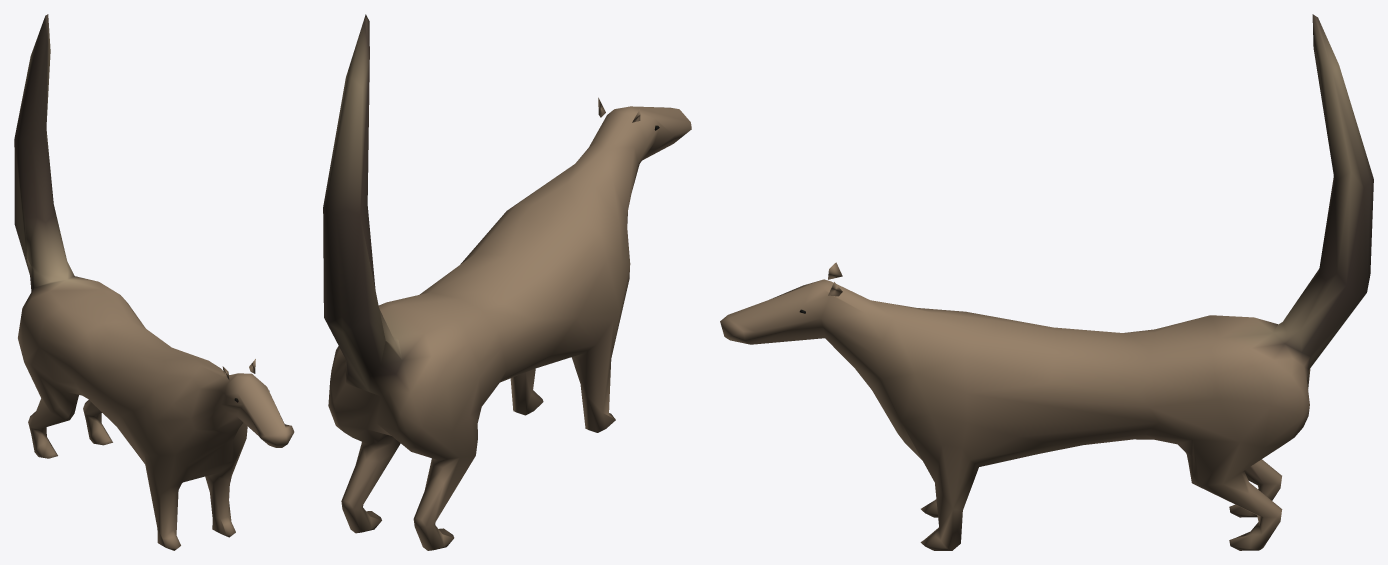
The model's file is nasenbaer.glb.
3 renders of one model, left to right at view 1: azimuth 30°, elevation 25°; view 2: azimuth 150°, elevation 25°; view 3: azimuth 270°, elevation 25°, orthographic. The views are drawn at different scales.
Visible parts, largest first — view 1: lack; view 2: lack; view 3: lack.
Part boxes in pixels (bbox=[...]): lack: bbox=[14, 14, 294, 550]; lack: bbox=[323, 14, 691, 550]; lack: bbox=[720, 14, 1373, 550].
Bounding box in the file's own units: 0.1641 × 0.6945 × 0.7957.
